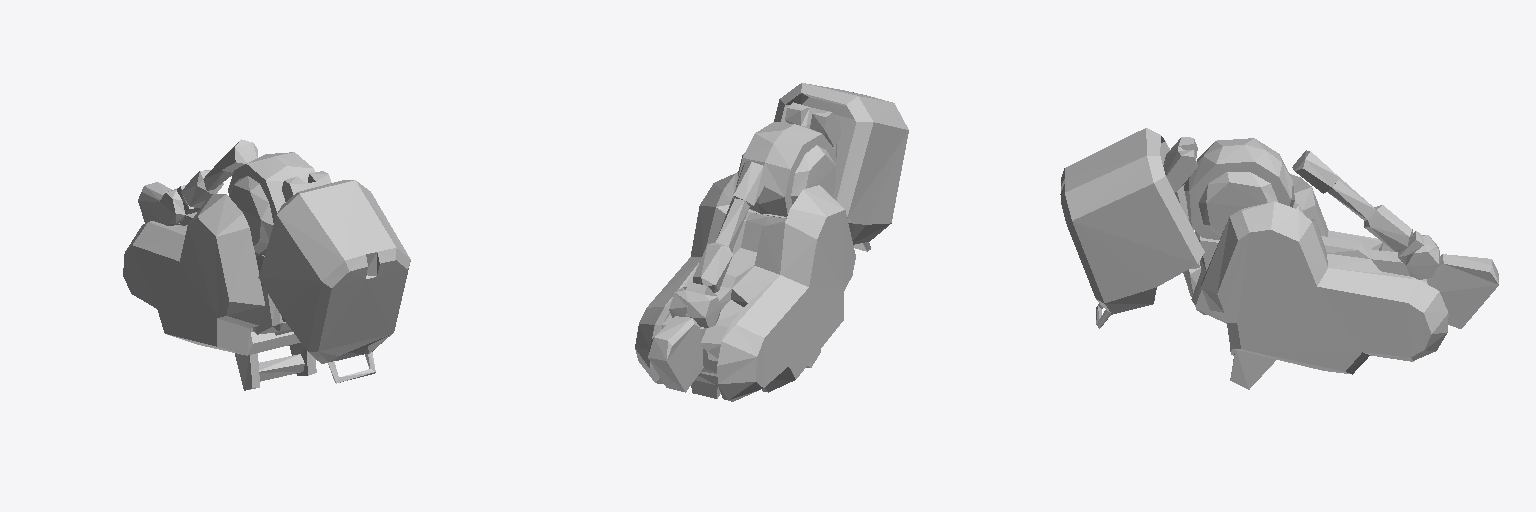
File: Leg_mid.obj
3 views of the same model, side by side, from view 1: azimuth 30°, elevation 25°; view 2: azimuth 150°, elevation 25°; view 3: azimuth 270°, elevation 25° (orthographic).
Visible parts, largest first — view 1: leg.001; view 2: leg.001; view 3: leg.001.
Part boxes in pixels (left/top/right/bottom): leg.001: left=123, top=139, right=410, bottom=390; leg.001: left=635, top=83, right=908, bottom=401; leg.001: left=1060, top=128, right=1498, bottom=389.
Bounding box in the file's own units: 6.32 × 11.68 × 19.87.